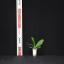leaf: (35, 39, 44, 49), (26, 44, 35, 49), (31, 37, 35, 48), (35, 46, 41, 49), (29, 47, 34, 49)
